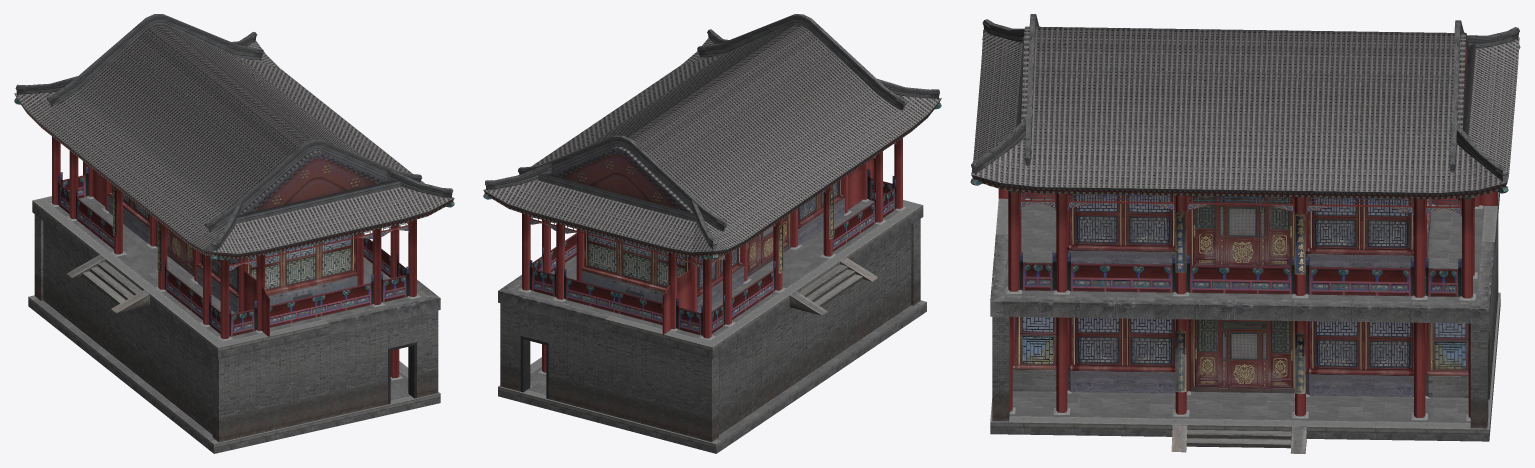
The model's file is building3.obj.
The picture shows the model from 3 angles, left to right: view 1: azimuth 30°, elevation 25°; view 2: azimuth 150°, elevation 25°; view 3: azimuth 270°, elevation 25°; orthographic projection. The views are drawn at different scales.
Parts seen in each view (by area): view 1: polySurface90; view 2: polySurface90; view 3: polySurface90.
Part boxes in pixels (x1,y1,x2,y2): polySurface90: (14,14,454,453); polySurface90: (483,14,941,453); polySurface90: (970,14,1520,453).
Size of the model in its own units: 54.93 by 52.12 by 74.35.
Materials: 17 (17 with a texture image).
